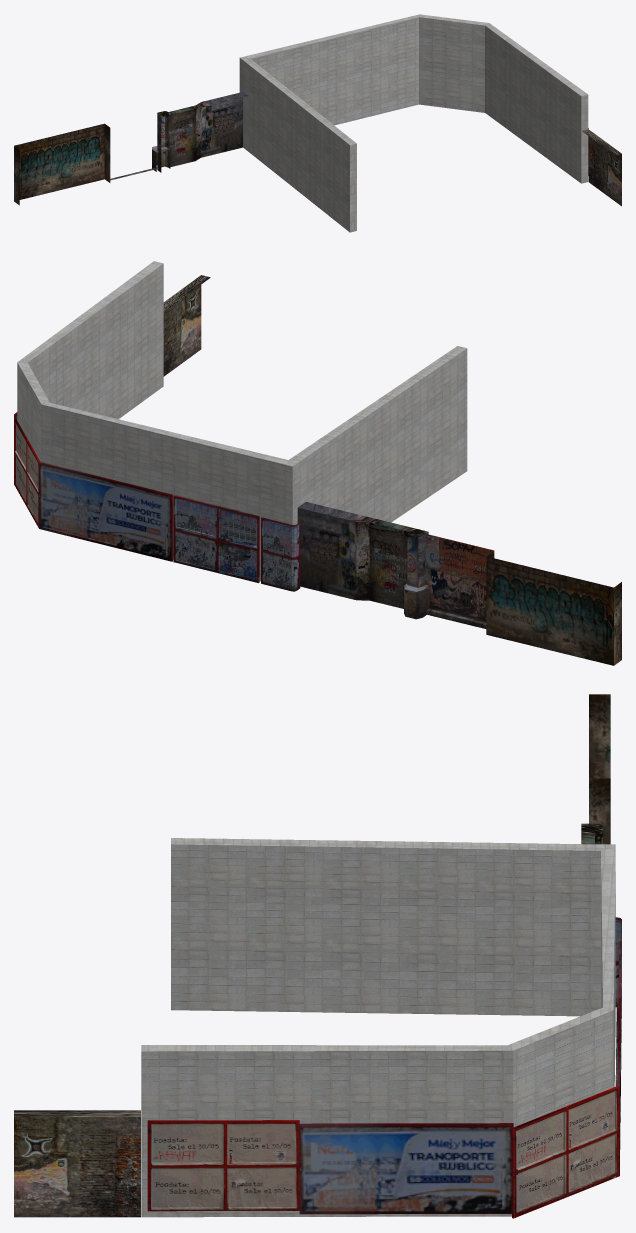
Rendered from _Esq_Laprida_publicidad + wall hechapija.fbx.
The picture shows the model from 3 angles, top to bottom: view 1: azimuth 30°, elevation 25°; view 2: azimuth 150°, elevation 25°; view 3: azimuth 270°, elevation 25°; orthographic projection. The views are drawn at different scales.
Visible parts, largest first — view 1: wall_BrickGray, Graffiti01, Graffiti03, Graffiti04; view 2: wall_BrickGray, Graffiti03, Graffiti01, Graffiti02, Graffiti04; view 3: wall_BrickGray, Graffiti04, Graffiti01.
Boxes of the visible parts, x1=… form: wall_BrickGray: x1=239, y1=14, x2=588, y2=232; Graffiti01: x1=14, y1=123, x2=110, y2=205; Graffiti03: x1=152, y1=92, x2=247, y2=172; Graffiti04: x1=582, y1=129, x2=621, y2=206; wall_BrickGray: x1=14, y1=261, x2=467, y2=591; Graffiti03: x1=297, y1=502, x2=429, y2=619; Graffiti01: x1=486, y1=551, x2=621, y2=665; Graffiti02: x1=425, y1=534, x2=493, y2=628; Graffiti04: x1=163, y1=275, x2=210, y2=376; wall_BrickGray: x1=141, y1=838, x2=621, y2=1218; Graffiti04: x1=14, y1=1110, x2=140, y2=1217; Graffiti01: x1=589, y1=694, x2=610, y2=844.
Bounding box in the file's own units: 64.9 × 11.96 × 39.76.
